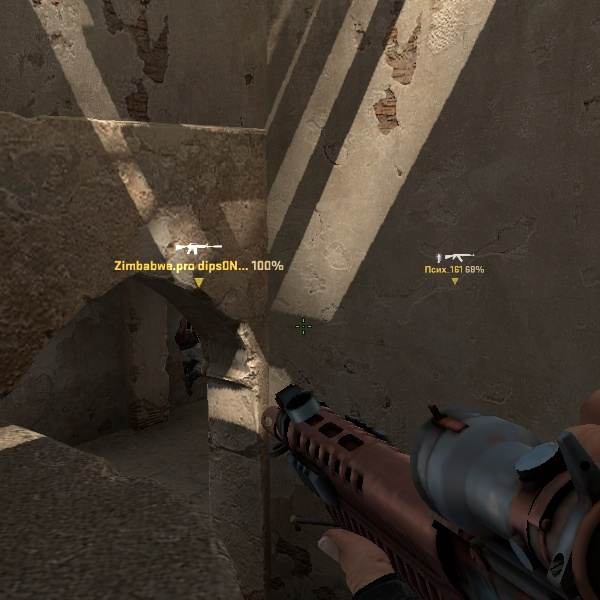t_body: (175, 317, 212, 396)
